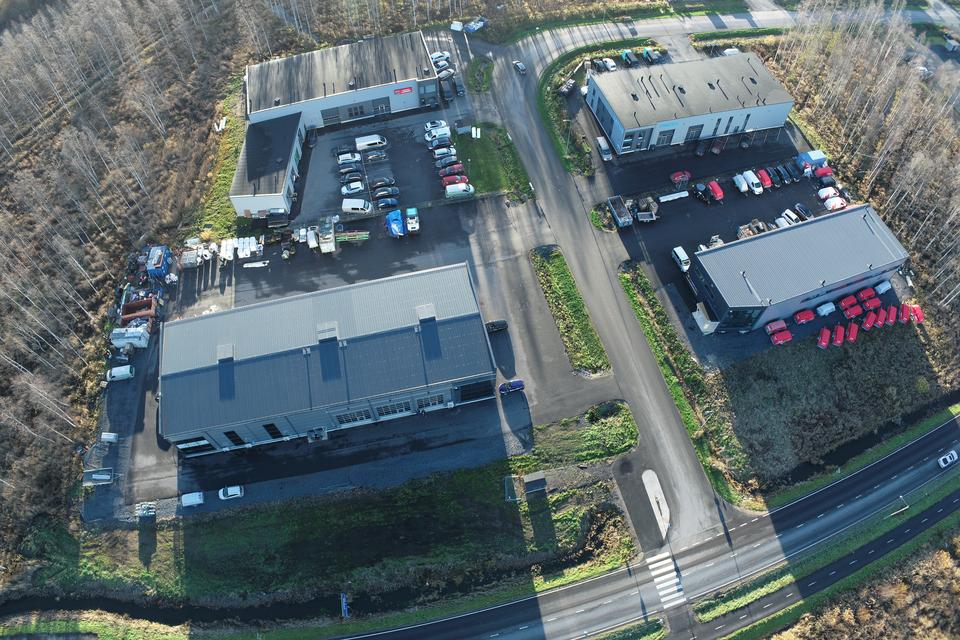intersection: (608, 499, 811, 640)
